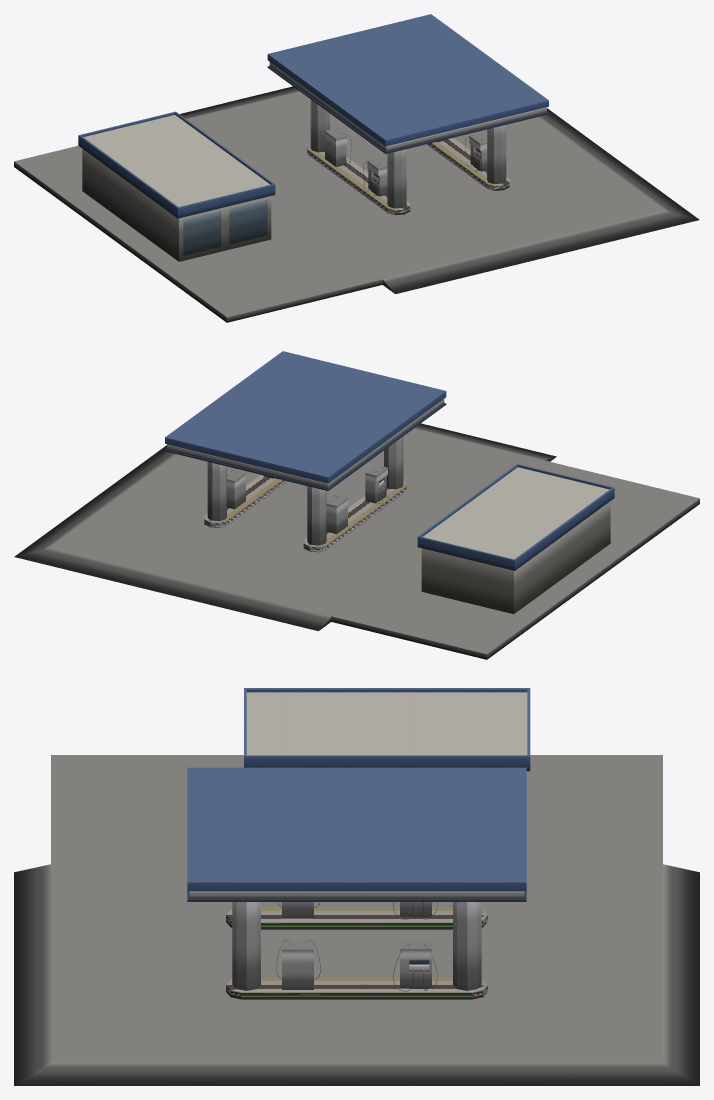
The model's file is Petrol_Station_FBX.fbx.
3 renders of one model, top to bottom at view 1: azimuth 30°, elevation 25°; view 2: azimuth 150°, elevation 25°; view 3: azimuth 270°, elevation 25°, orthographic. The views are drawn at different scales.
Parts seen in each view (by area): view 1: pCube130; view 2: pCube130; view 3: pCube130.
Boxes of the visible parts, x1=… form: pCube130: x1=14, y1=14, x2=699, y2=322; pCube130: x1=14, y1=351, x2=699, y2=659; pCube130: x1=14, y1=688, x2=699, y2=1085.
Bounding box in the file's own units: 2771 × 561 × 2488.
